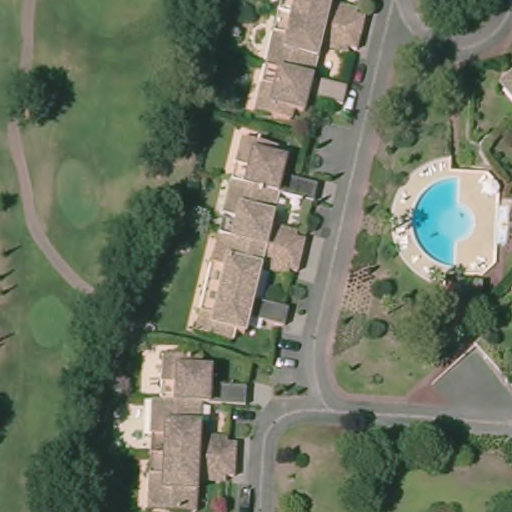pool: (407, 172, 475, 273)
